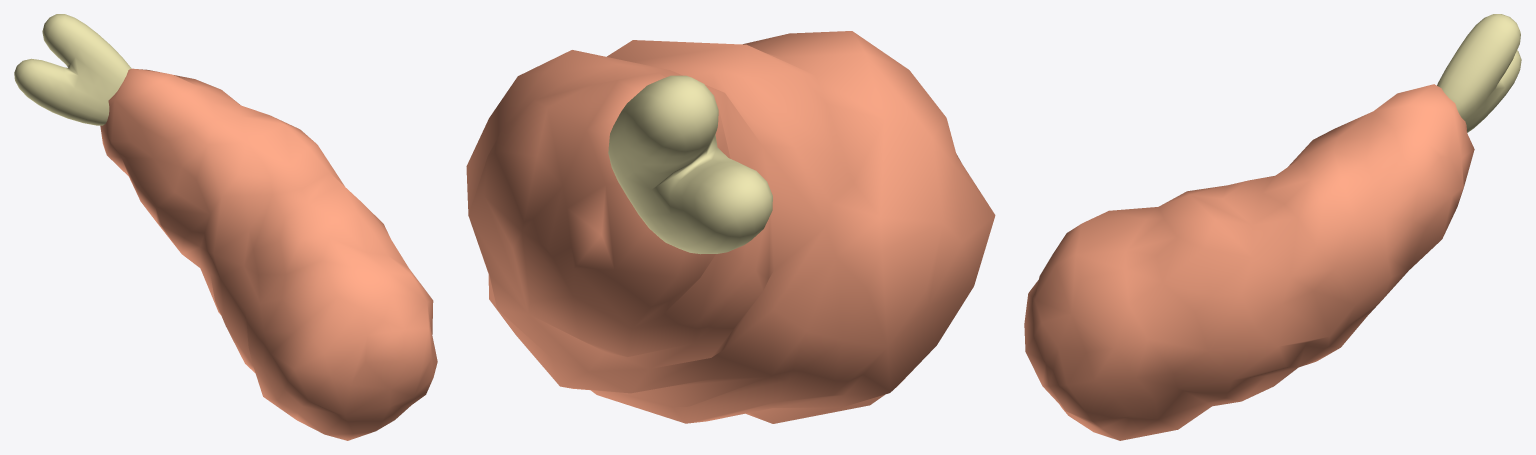
Rendered from Food (2).fbx.
3 views of the same model, side by side, from view 1: azimuth 30°, elevation 25°; view 2: azimuth 150°, elevation 25°; view 3: azimuth 270°, elevation 25° (orthographic). The views are drawn at different scales.
Visible parts, largest first — view 1: Cube.003; view 2: Cube.003; view 3: Cube.003.
Part boxes in pixels (left/top/right/bottom): Cube.003: left=14, top=14, right=437, bottom=440; Cube.003: left=466, top=31, right=995, bottom=423; Cube.003: left=1024, top=14, right=1521, bottom=440.
Size of the model in its own units: 6.21 by 7.67 by 9.88.
